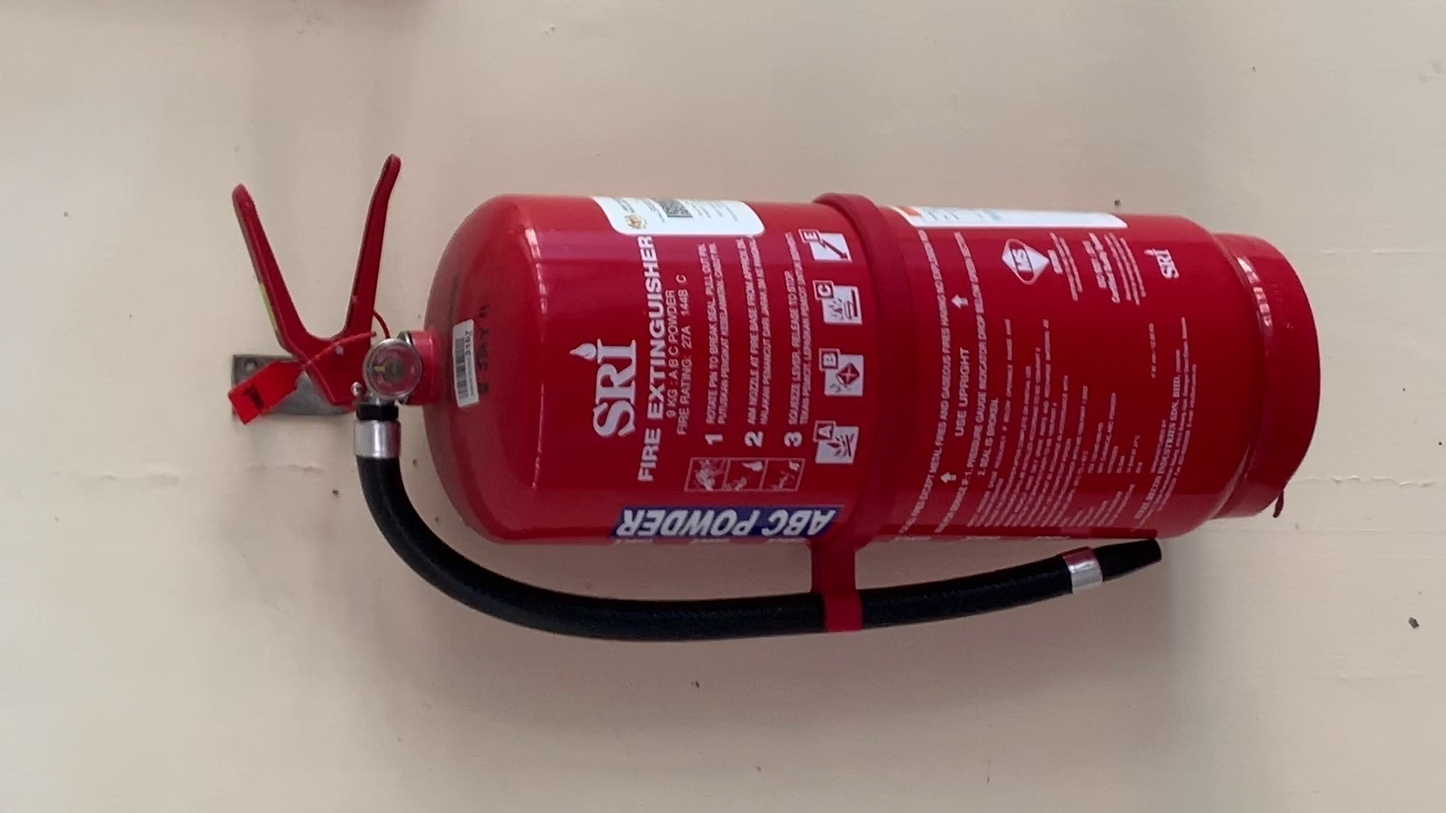fire_extinguisher: (230, 154, 1323, 641)
